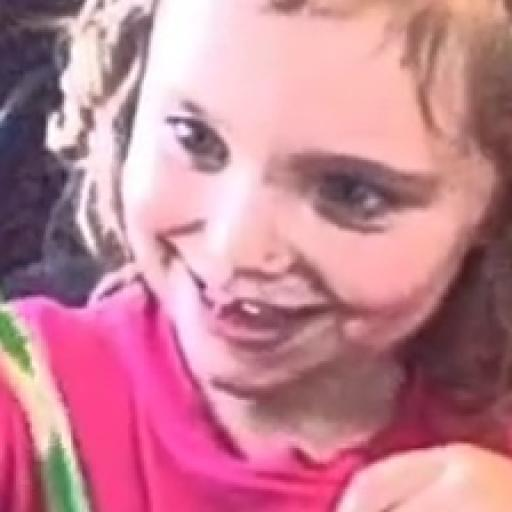Autism: (88, 0, 512, 453)
